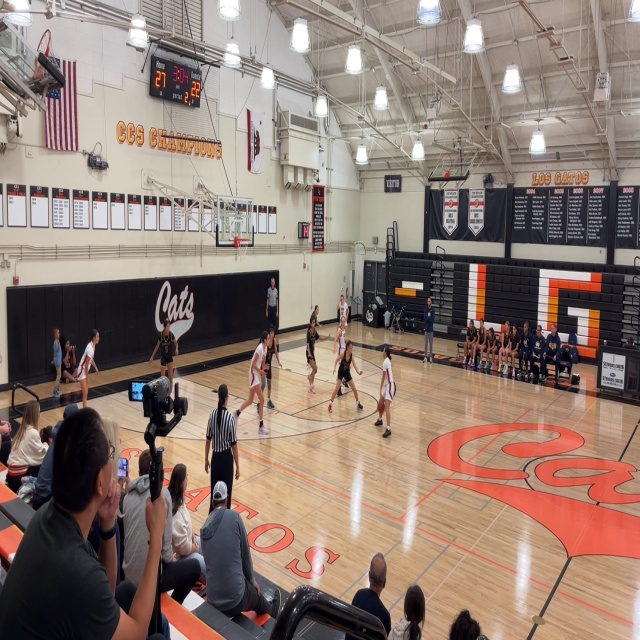Basketball: (377, 397, 385, 412)
